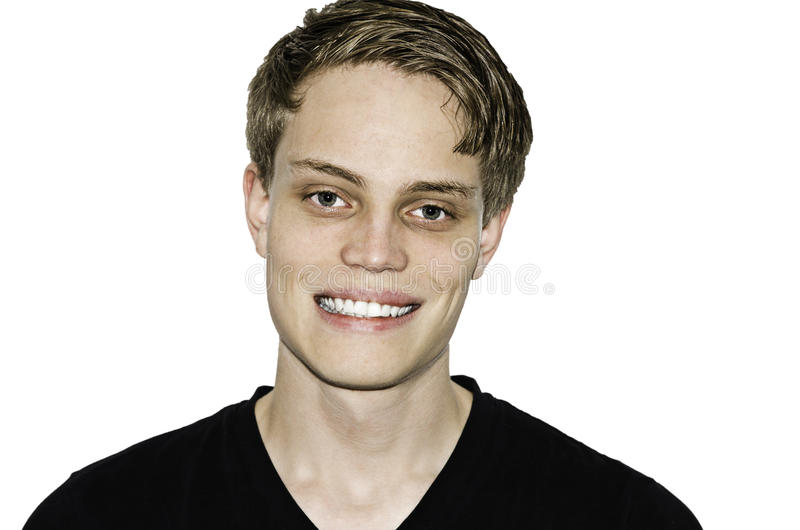bare: (264, 225, 478, 385)
